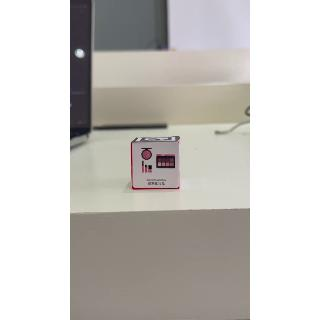Expired_Cosmetic: (132, 144, 181, 192)
